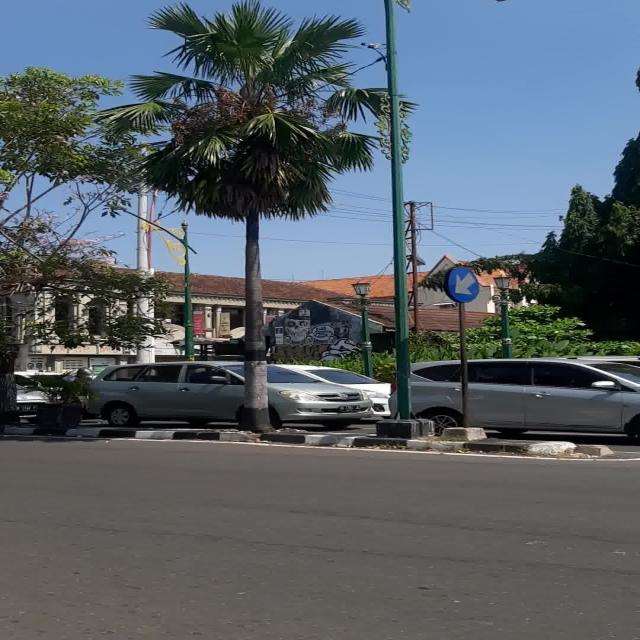Lajur Kiri: (448, 266, 479, 302)
